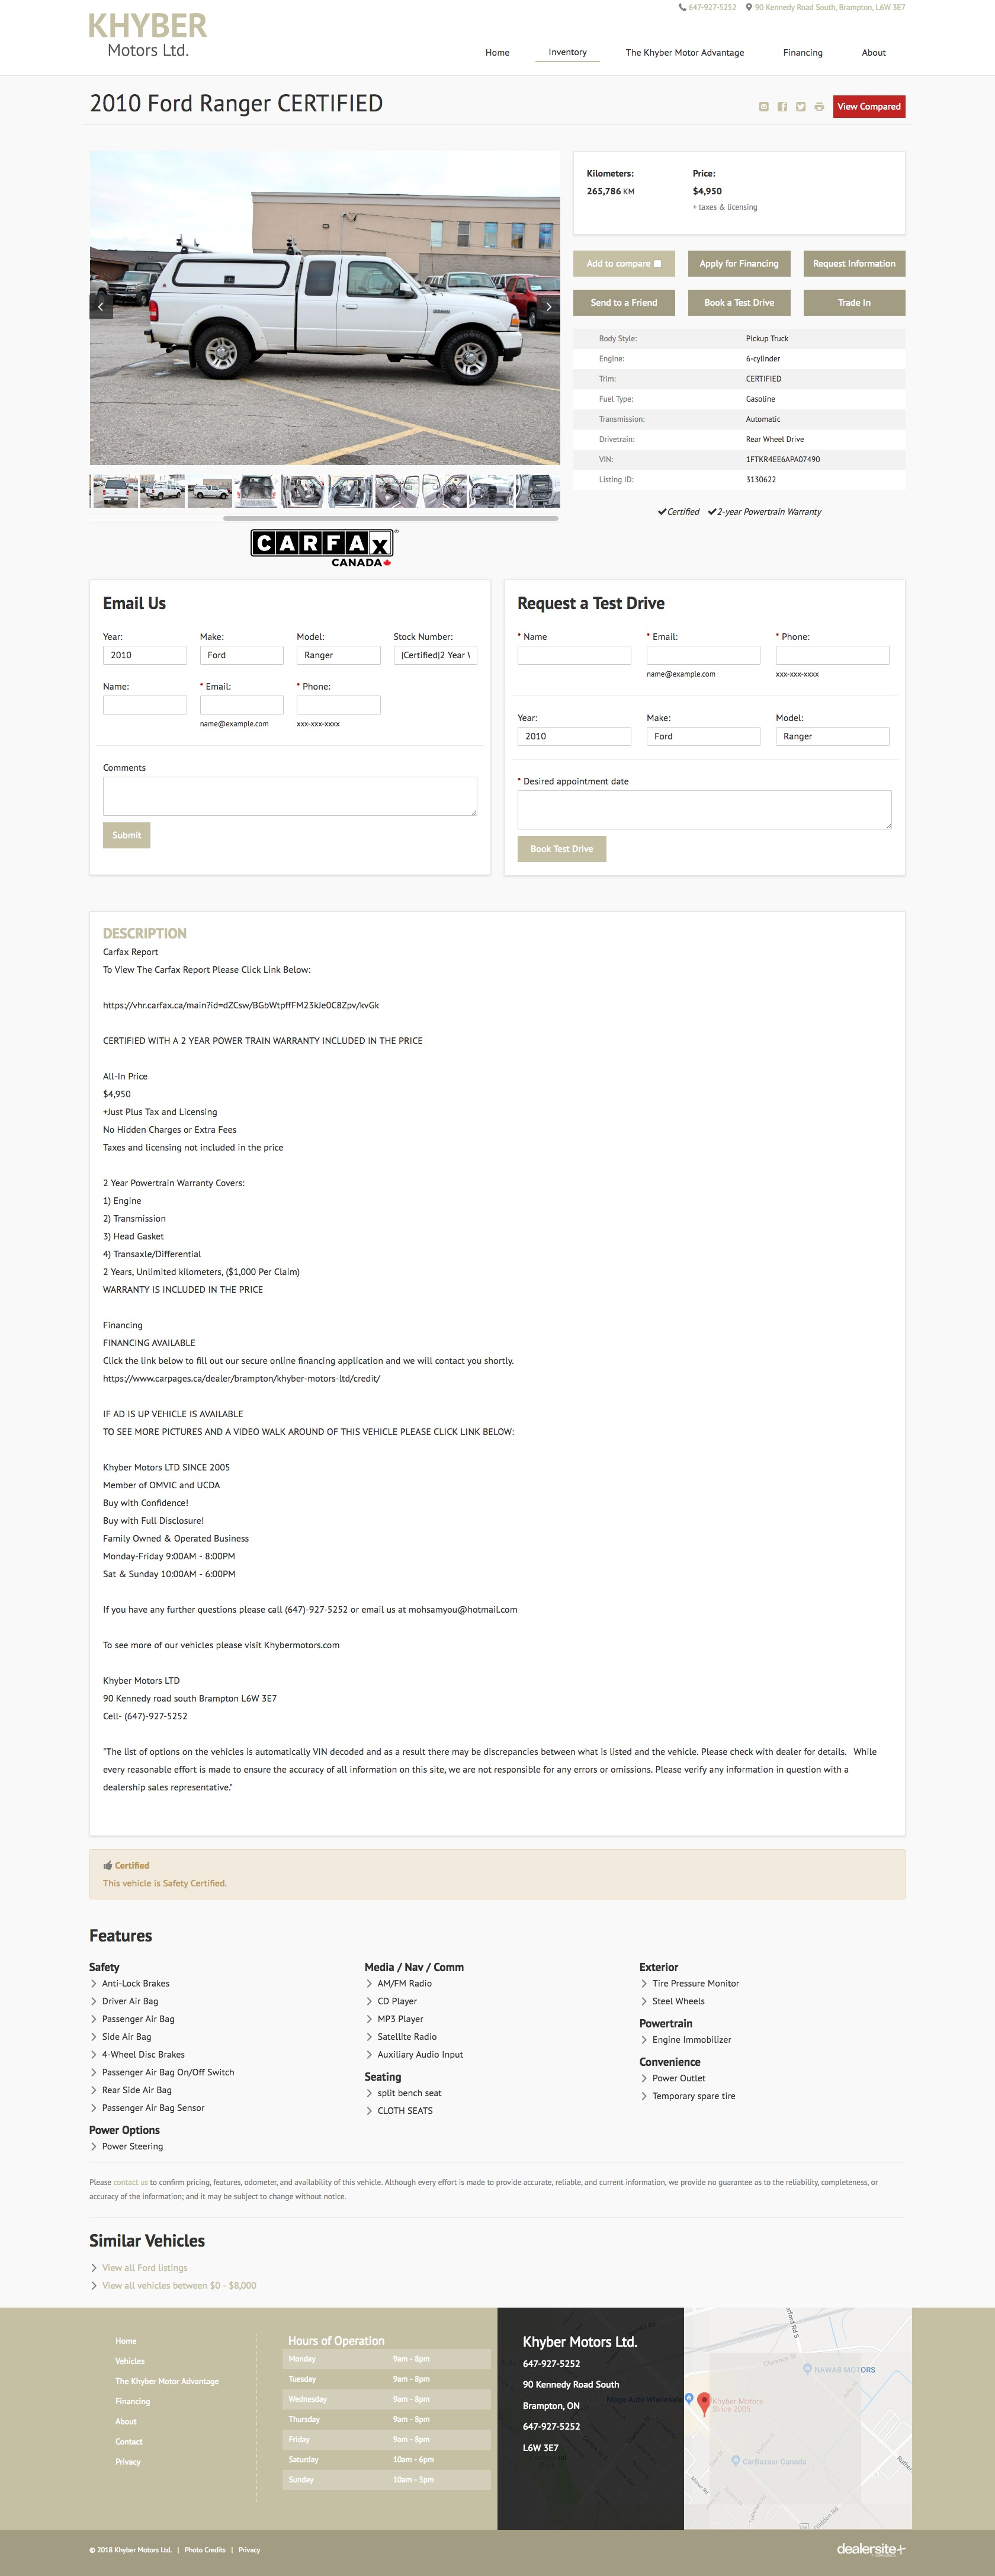car: (535, 296, 562, 324)
